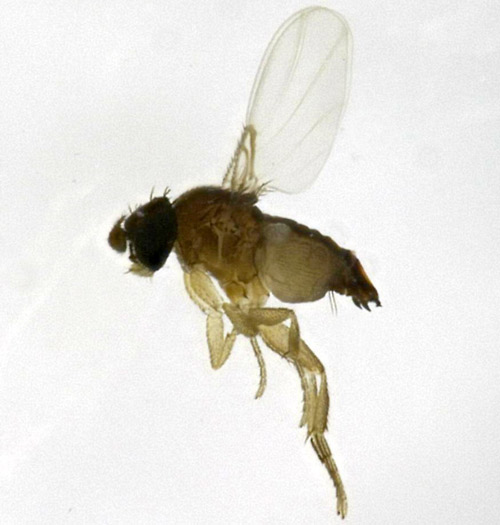phorid fly: (49, 7, 483, 525)
